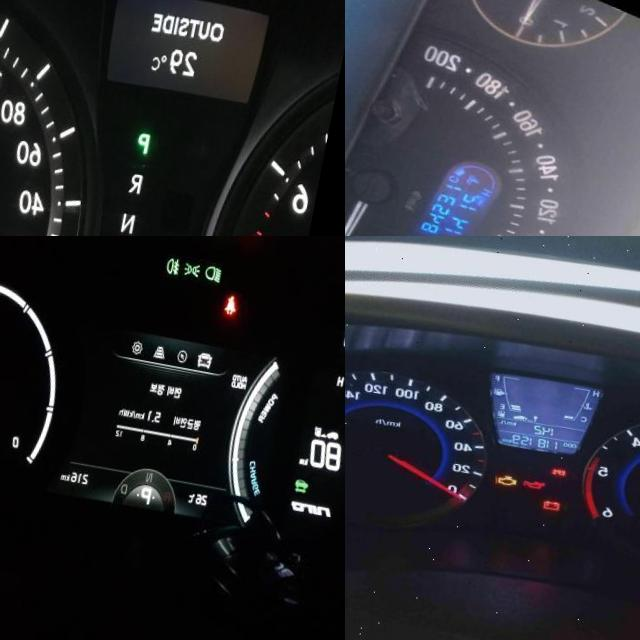FrontFogLight: (173, 246, 189, 267)
Low beam: (212, 253, 231, 272)
SideLamp: (191, 249, 210, 268)
